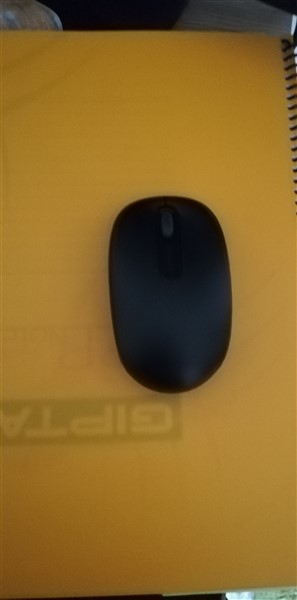mouse: (103, 189, 243, 403)
